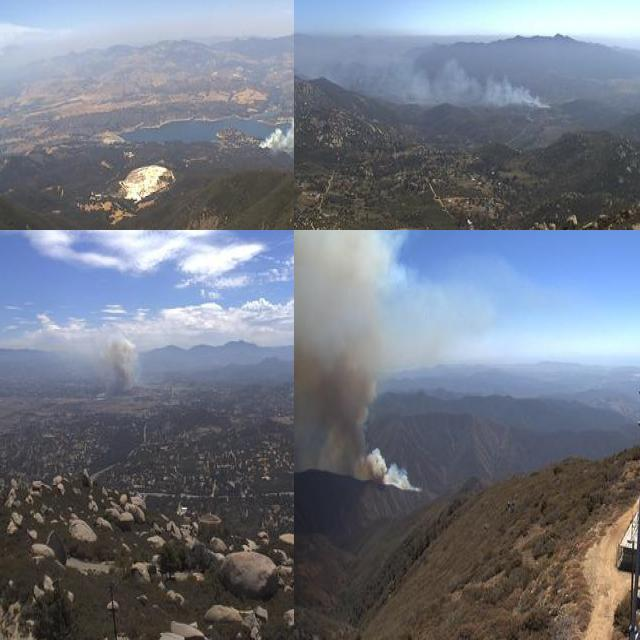smoke: (294, 230, 423, 497), (294, 33, 550, 115), (256, 0, 294, 164), (98, 328, 145, 408)
